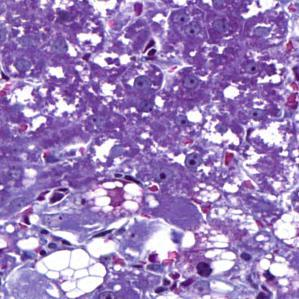ballooning: (34, 246, 108, 298), (86, 178, 144, 217)
